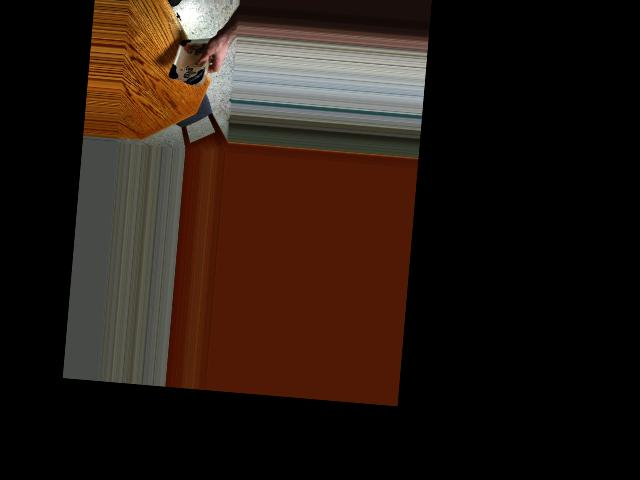cheese: (171, 29, 211, 89)
